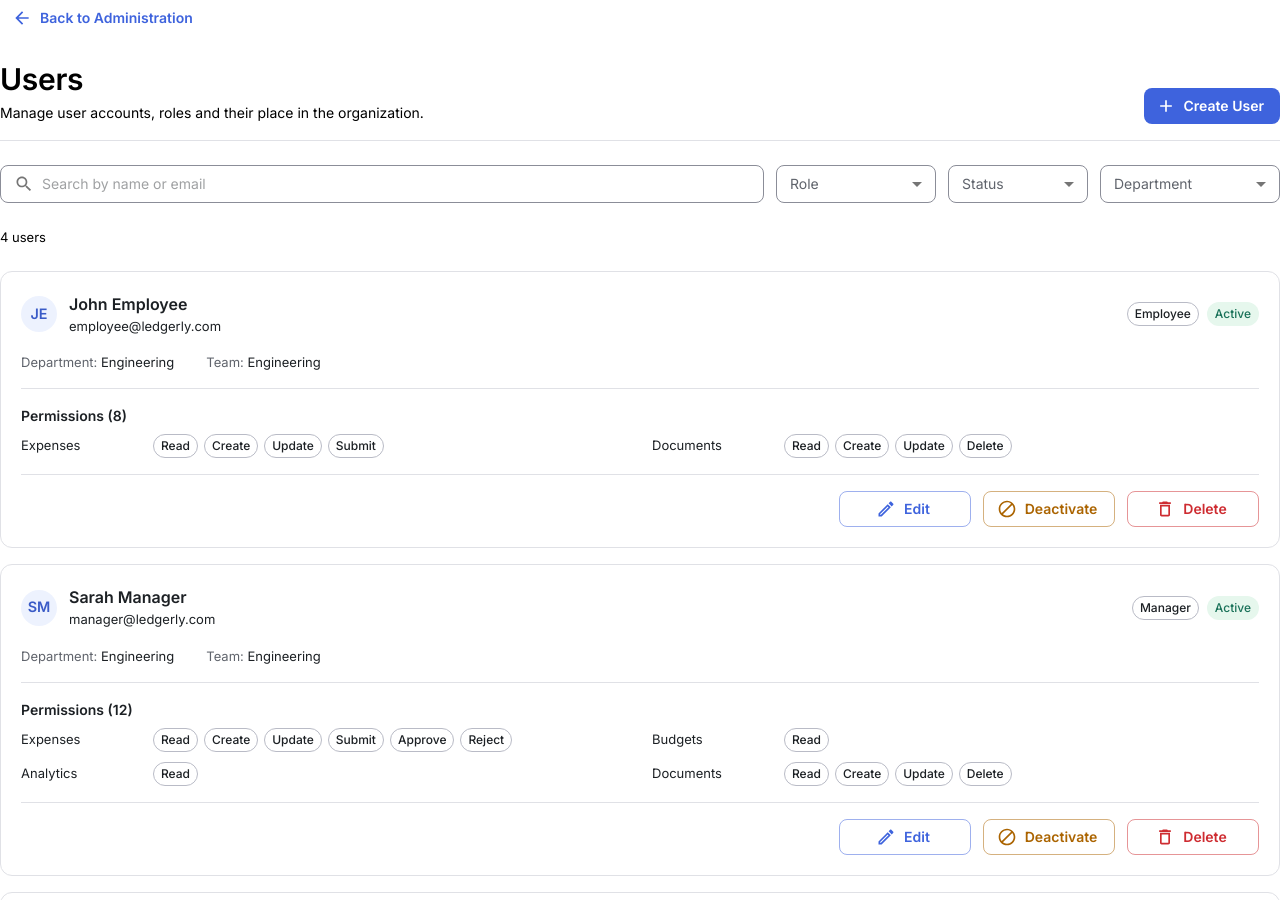
UsersPage edit dialog › shows the selected user's details, and another user's when a different one is edited
This screenshot has width=1280, height=900.
Click the 1st button "Edit".
click(905, 509)  # box [839, 491, 971, 527]
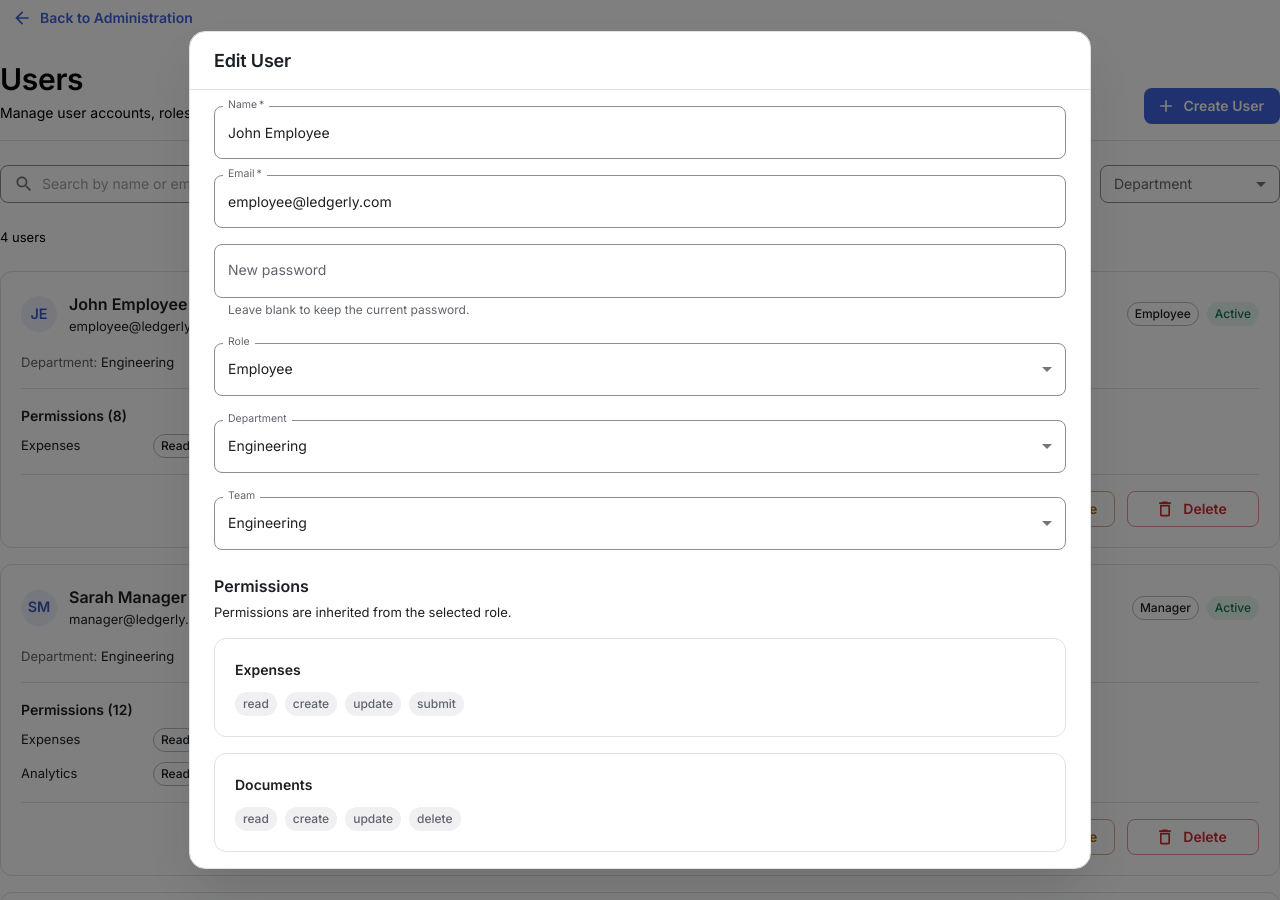
Result: the field labelled "Name" holds "John Employee"
Result: the field labelled "Email" holds "employee@ledgerly.com" at [214, 175, 1066, 228]
Type " (draft)" into the field labelled "Name".
click(640, 133); type(" (draft)")  # box [214, 106, 1066, 159]
(page scrolled)
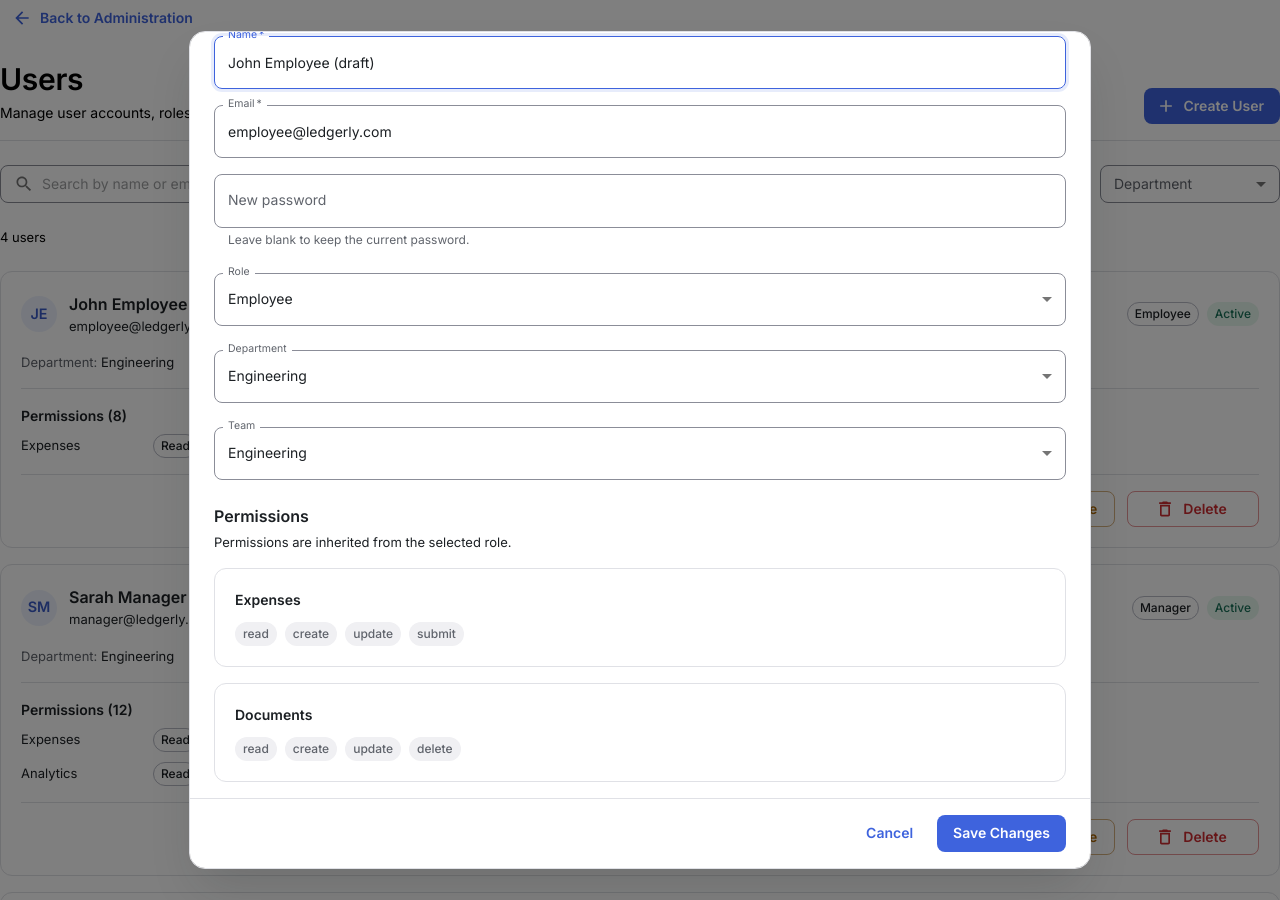
Click the button "Cancel".
click(890, 833)  # box [850, 815, 929, 852]
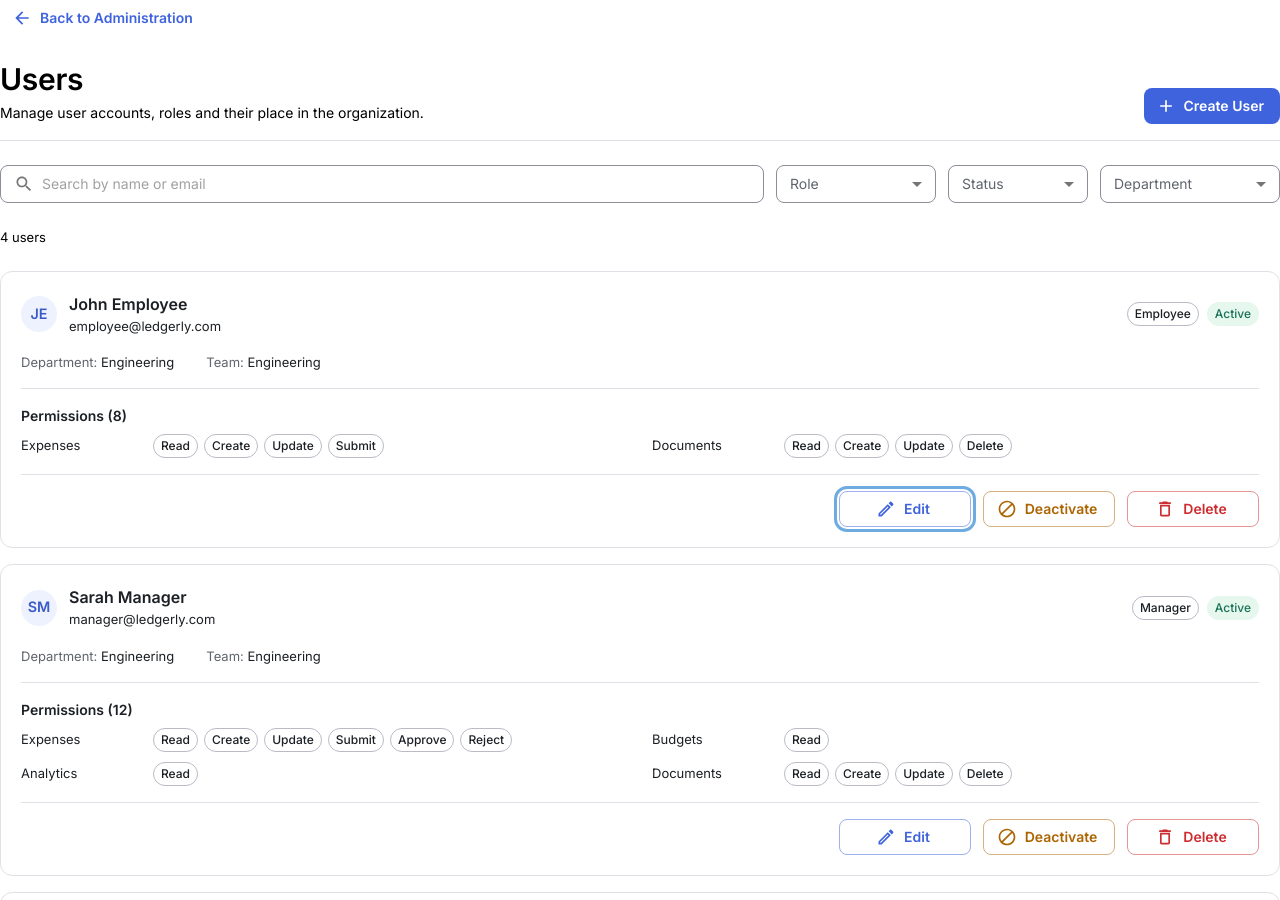
Result: the dialog is gone
Click the 2nd button "Edit".
click(905, 837)  # box [839, 819, 971, 855]
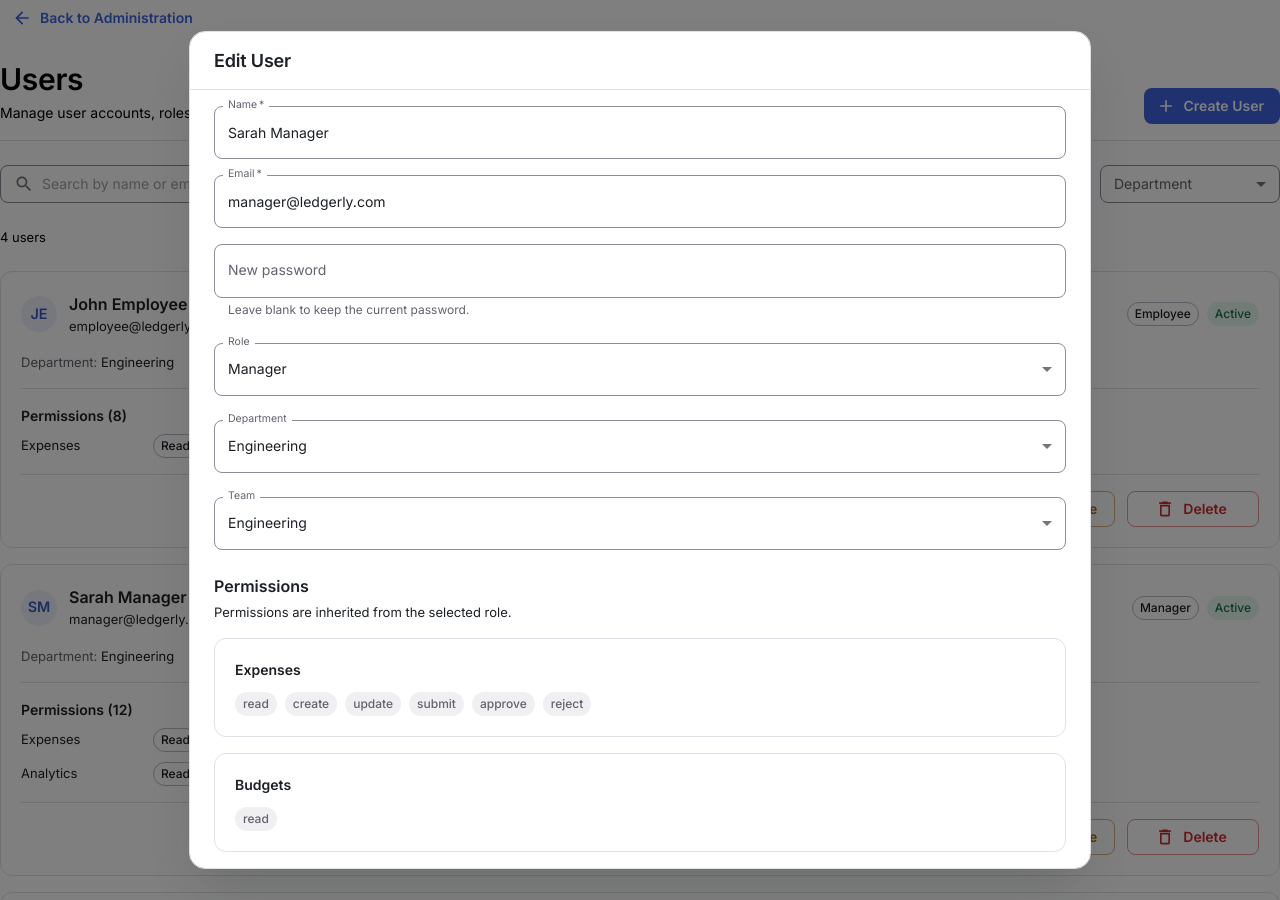
Result: the field labelled "Name" holds "Sarah Manager" at [214, 106, 1066, 159]
Result: the field labelled "Email" holds "manager@ledgerly.com" at [214, 175, 1066, 228]
